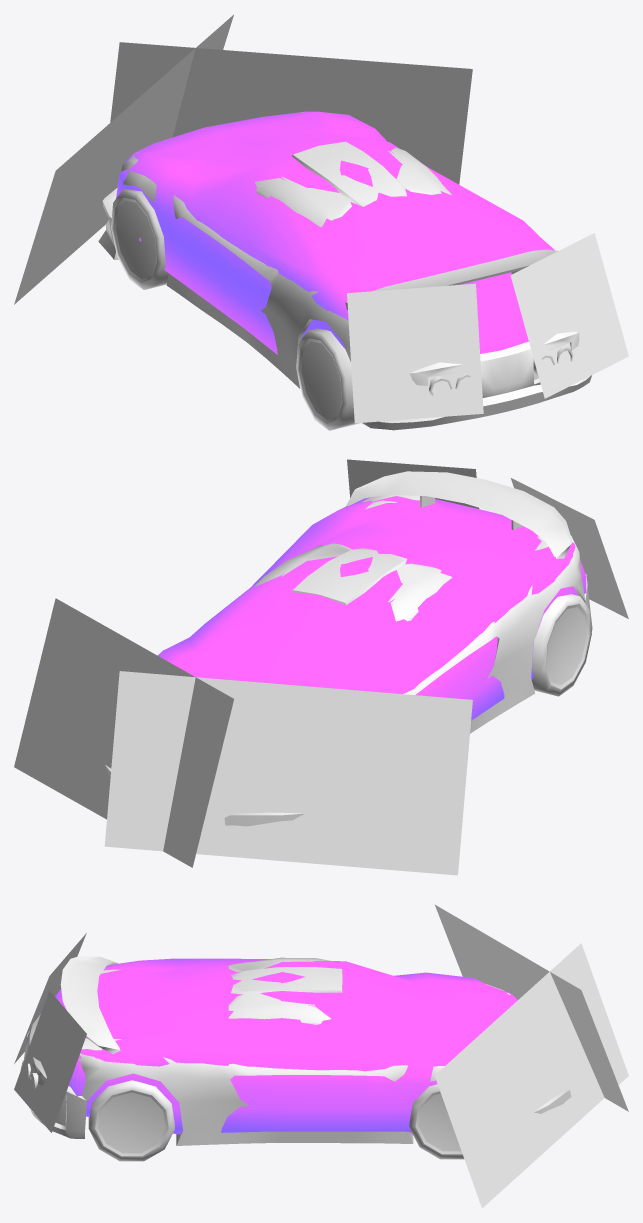
Rendered from Porsche.fbx.
3 renders of one model, top to bottom at view 1: azimuth 30°, elevation 25°; view 2: azimuth 150°, elevation 25°; view 3: azimuth 270°, elevation 25°, orthographic. The views are drawn at different scales.
Visible parts, largest first — view 1: PorscheProxy, PorscheFrontLights, PorscheRearLights, Porsche, PorscheRearBumper2, PorscheWheel_LB, PorscheWheel_LF, PorscheSpoiler1, PorscheFrontBumper2; view 2: PorscheFrontLights, PorscheProxy, Porsche, PorscheSpoiler1, PorscheRearLights, PorscheWheel_LB, PorscheFrontBumper2; view 3: PorscheProxy, PorscheFrontLights, Porsche, PorscheRearLights, PorscheWheel_RB, PorscheSpoiler1, PorscheWheel_RF, PorscheRearBumper2.
Part boxes in pixels (bbox=[...]): PorscheProxy: bbox=[116, 111, 554, 354]; PorscheFrontLights: bbox=[14, 14, 472, 304]; PorscheRearLights: bbox=[347, 233, 628, 423]; Porsche: bbox=[121, 112, 451, 388]; PorscheRearBumper2: bbox=[362, 331, 591, 430]; PorscheWheel_LB: bbox=[296, 328, 360, 430]; PorscheWheel_LF: bbox=[111, 189, 168, 289]; PorscheSpoiler1: bbox=[345, 249, 557, 309]; PorscheFrontBumper2: bbox=[98, 188, 118, 259]; PorscheFrontLights: bbox=[14, 598, 472, 875]; PorscheProxy: bbox=[158, 496, 586, 720]; Porsche: bbox=[255, 495, 585, 733]; PorscheSpoiler1: bbox=[346, 471, 572, 558]; PorscheRearLights: bbox=[347, 459, 628, 618]; PorscheWheel_LB: bbox=[531, 594, 591, 696]; PorscheFrontBumper2: bbox=[105, 765, 304, 826]; PorscheProxy: bbox=[39, 958, 517, 1134]; PorscheFrontLights: bbox=[434, 905, 628, 1208]; Porsche: bbox=[78, 957, 510, 1145]; PorscheRearLights: bbox=[14, 933, 86, 1132]; PorscheWheel_RB: bbox=[88, 1080, 174, 1161]; PorscheSpoiler1: bbox=[60, 956, 120, 1053]; PorscheWheel_RF: bbox=[409, 1084, 464, 1159]; PorscheRearBumper2: bbox=[20, 1014, 86, 1138].
Size of the model in its own units: 3.91 by 5.58 by 1.51.
